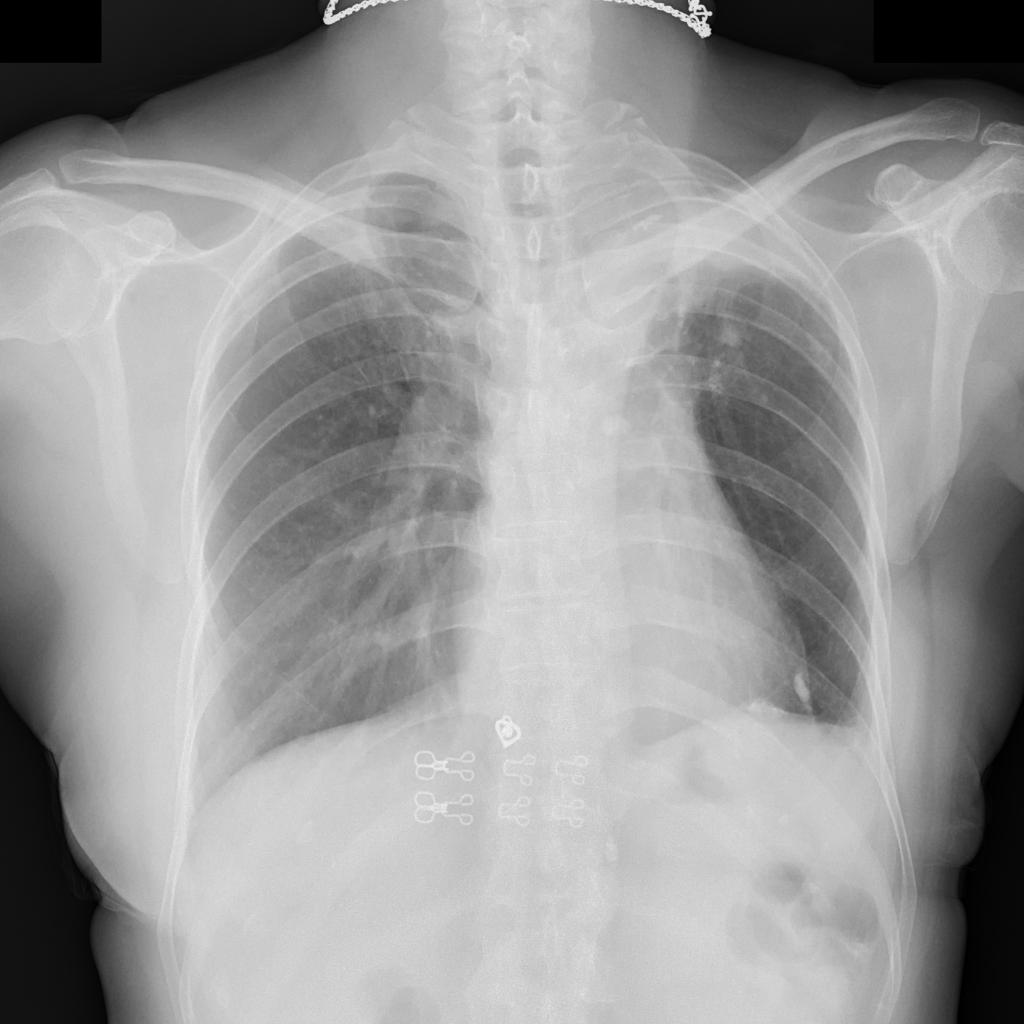Nodule: (744, 697, 785, 725), (601, 415, 634, 436), (792, 668, 810, 702)
